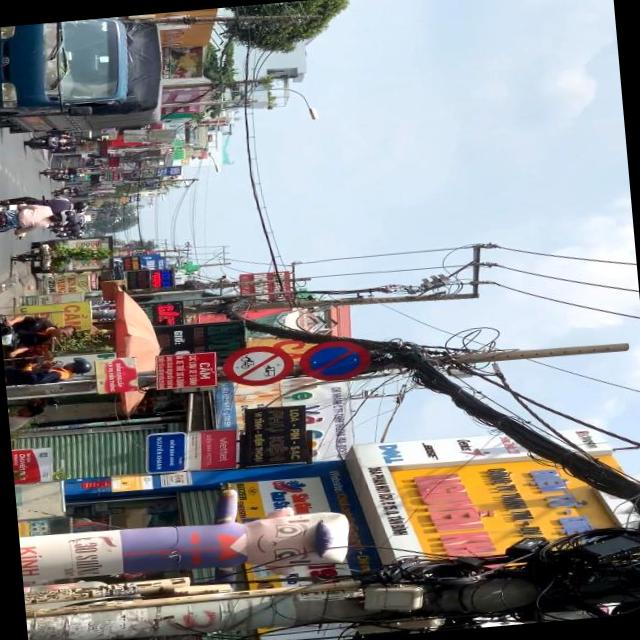P-131a: (298, 336, 368, 384)
